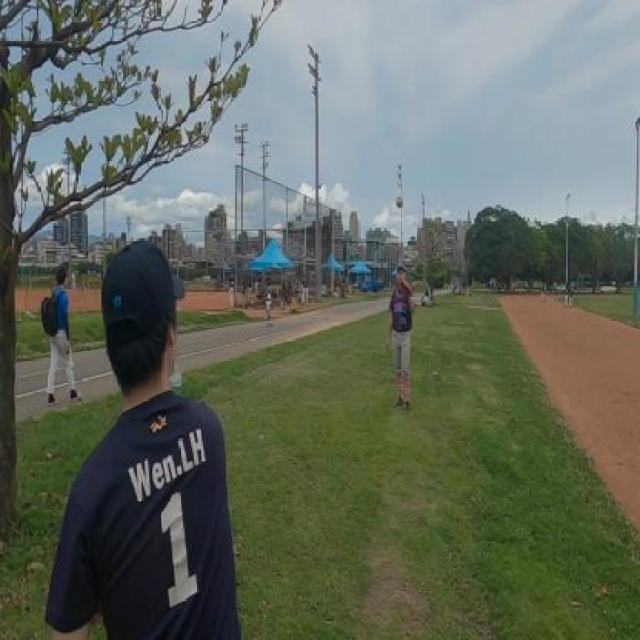baseball: (395, 194, 403, 208)
